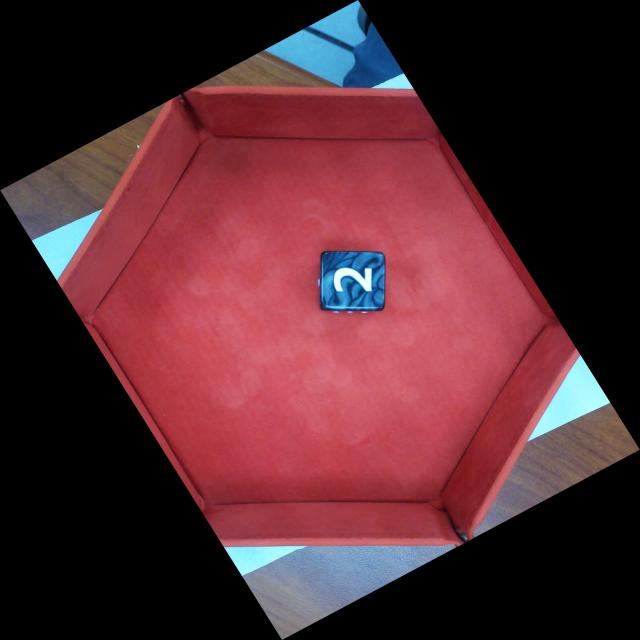dice: (323, 251, 383, 309)
